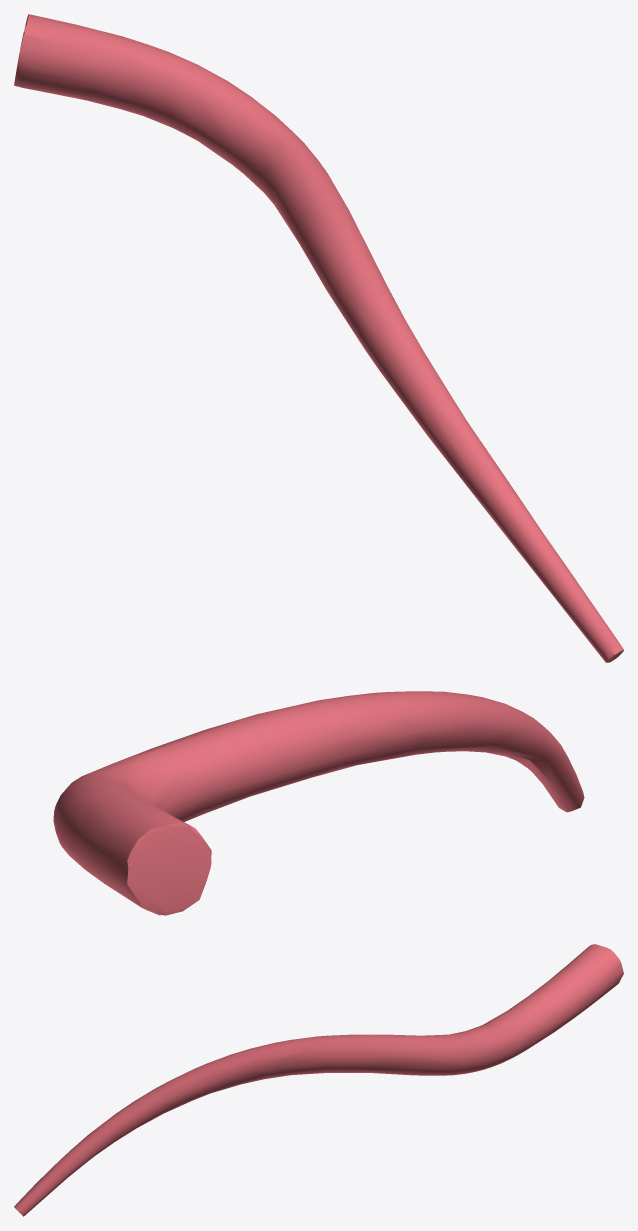
File: fma68131_fj5976.glb
3 views of the same model, one above another, from view 1: azimuth 30°, elevation 25°; view 2: azimuth 150°, elevation 25°; view 3: azimuth 270°, elevation 25° (orthographic). The views are drawn at different scales.
Visible parts, largest first — view 1: FMA68131_FJ5976; view 2: FMA68131_FJ5976; view 3: FMA68131_FJ5976.
Part boxes in pixels (bbox=[...]): FMA68131_FJ5976: bbox=[14, 14, 623, 662]; FMA68131_FJ5976: bbox=[53, 691, 584, 915]; FMA68131_FJ5976: bbox=[14, 944, 623, 1216].
Bounding box in the file's own units: 0.0194 × 0.0339 × 0.0824.
